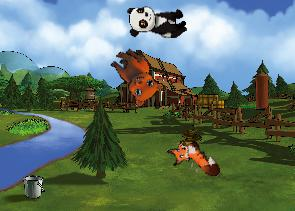bear: (99, 43, 169, 111)
fox: (163, 130, 223, 192)
panda: (127, 5, 187, 38)
